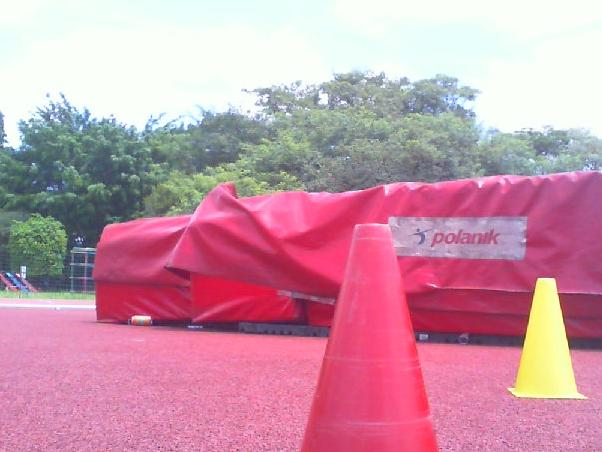0 cone: (295, 223, 443, 452), (507, 279, 587, 400)
